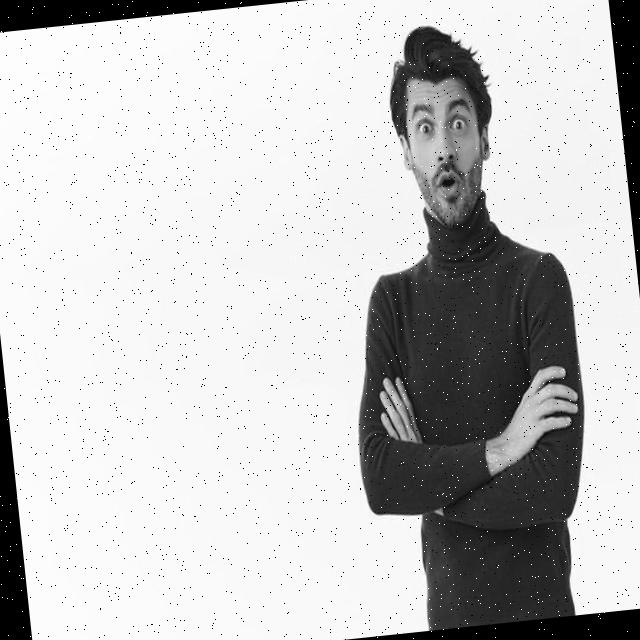Surprised: (402, 74, 488, 228)
